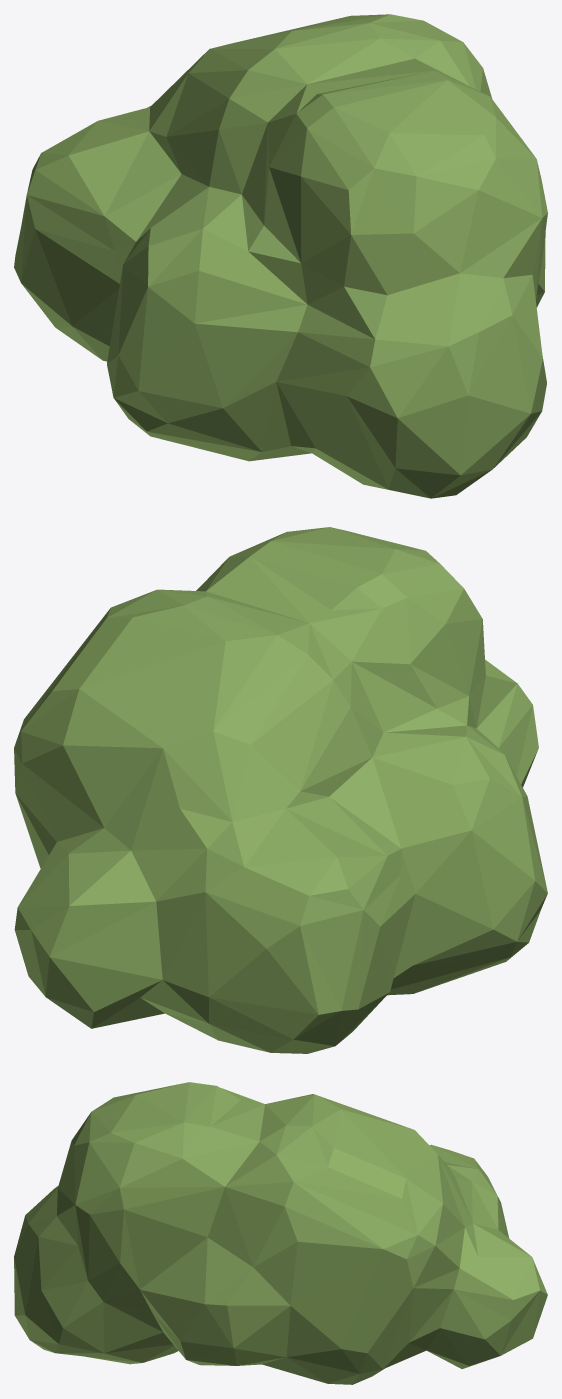
File: caocong.fbx
3 renders of one model, top to bottom at view 1: azimuth 30°, elevation 25°; view 2: azimuth 150°, elevation 25°; view 3: azimuth 270°, elevation 25°, orthographic. The views are drawn at different scales.
Visible parts, largest first — view 1: caocong; view 2: caocong; view 3: caocong.
Part boxes in pixels (<box>): caocong: <box>14,14,547,498</box>; caocong: <box>14,527,547,1053</box>; caocong: <box>14,1082,547,1384</box>.
Size of the model in its own units: 9.52 by 7.82 by 13.64.
